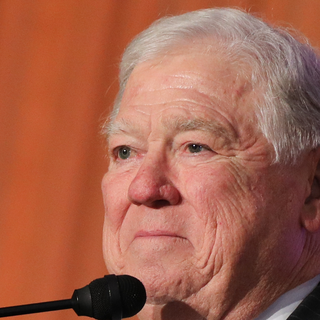eye: (175, 136, 220, 161), (102, 140, 142, 165)
